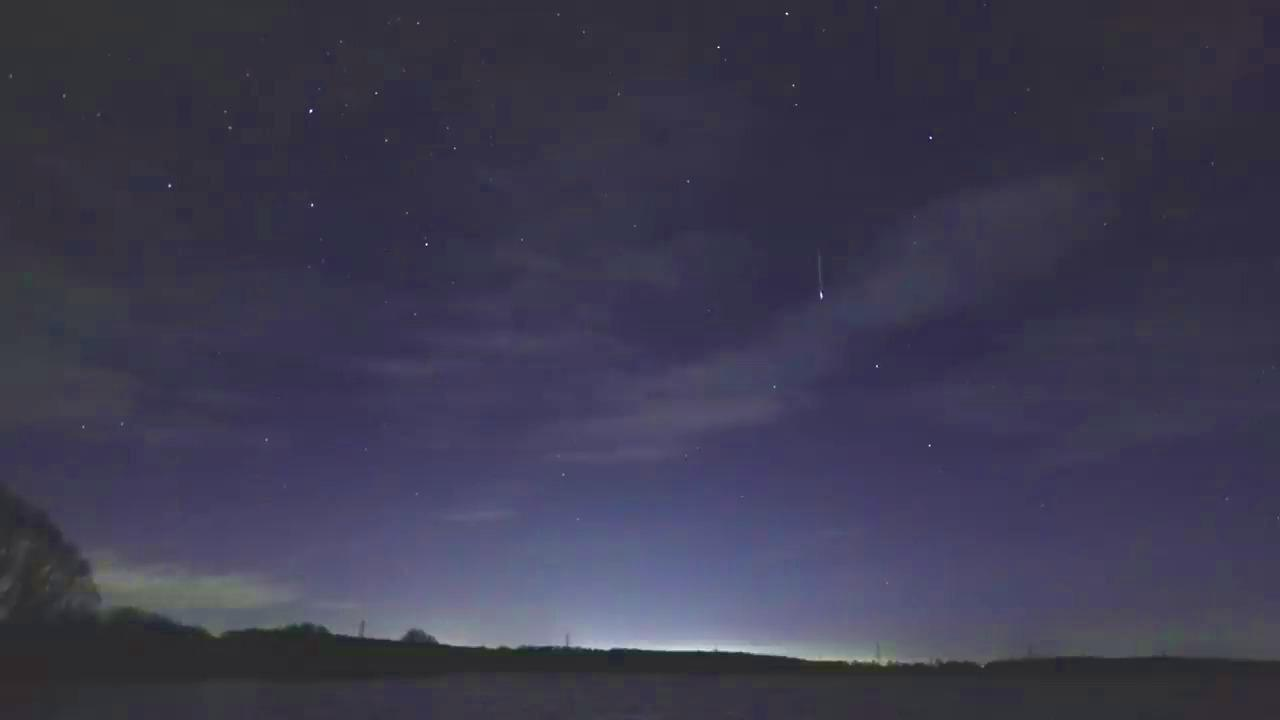meteorite: (785, 246, 848, 311)
